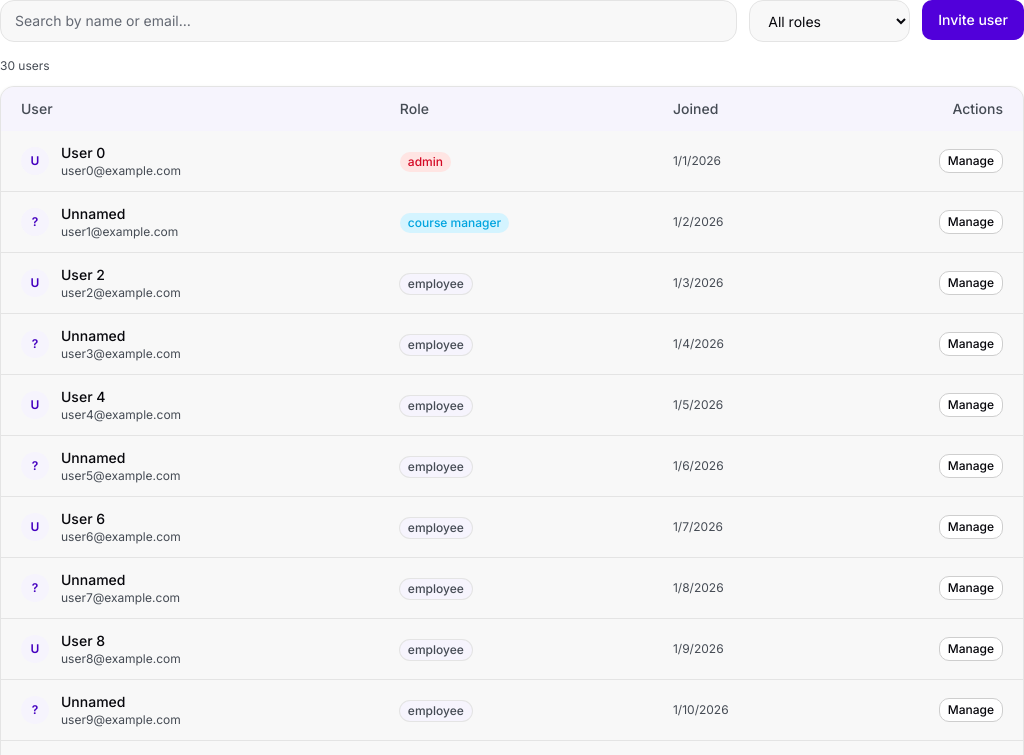
Scenario: UserList › filters by role
This screenshot has width=1024, height=755.
Select "Admin" in the dropdown showing "All roles" at (830, 21), box [749,0,910,42]
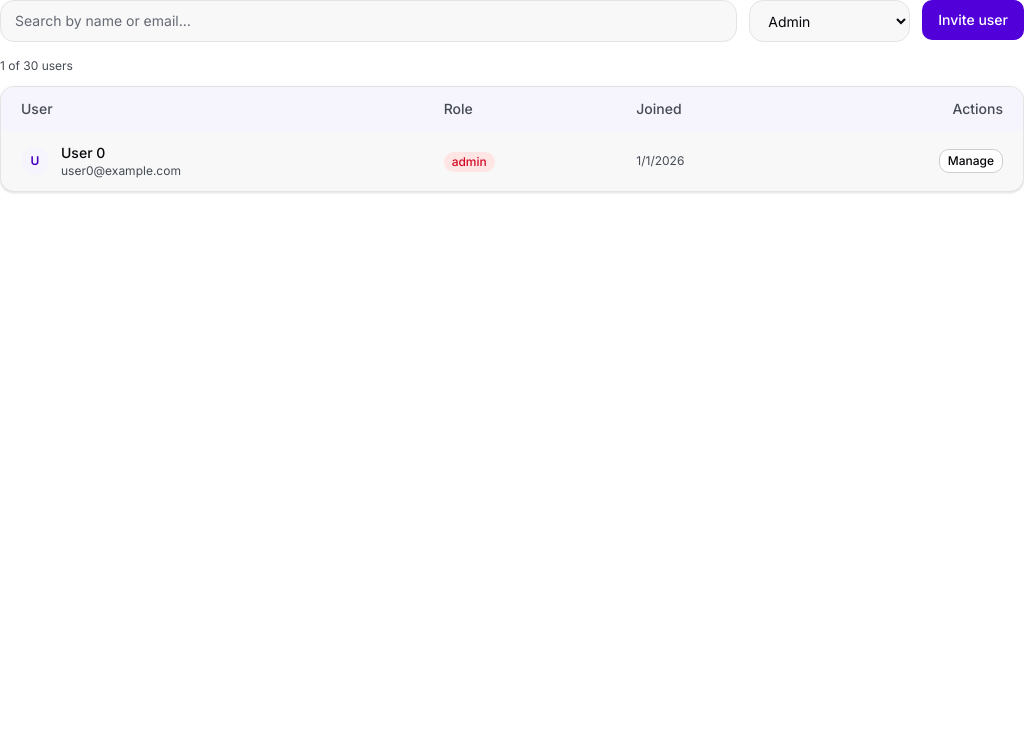
Result: the text "1 of 30 users" is shown at [0,58,73,73]
